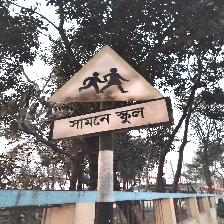School-in-front: (45, 44, 173, 142)
